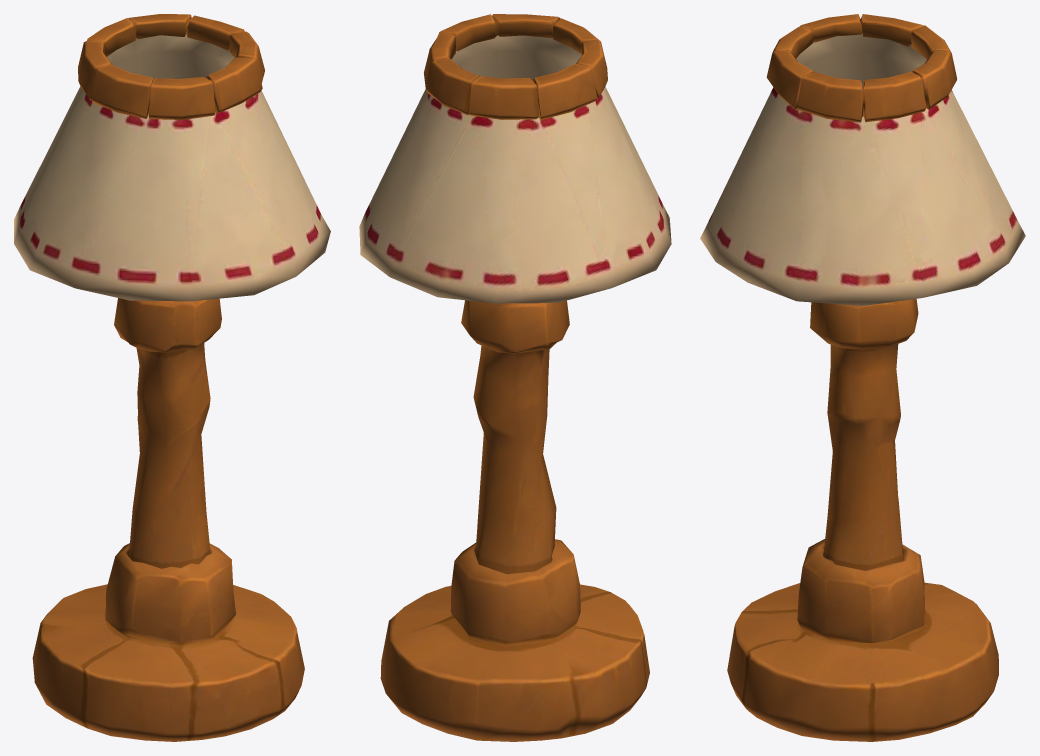
File: lampadaire.glb
3 renders of one model, left to right at view 1: azimuth 30°, elevation 25°; view 2: azimuth 150°, elevation 25°; view 3: azimuth 270°, elevation 25°, orthographic.
Visible parts, largest first — view 1: geometry_0; view 2: geometry_0; view 3: geometry_0.
Boxes of the visible parts, x1,y1,x2,y2 form: geometry_0: (14,14,330,741); geometry_0: (359,14,671,741); geometry_0: (700,14,1025,741).
Bounding box in the file's own units: 0.4375 × 0.9517 × 0.44.
Materials: 1 (1 with a texture image).
